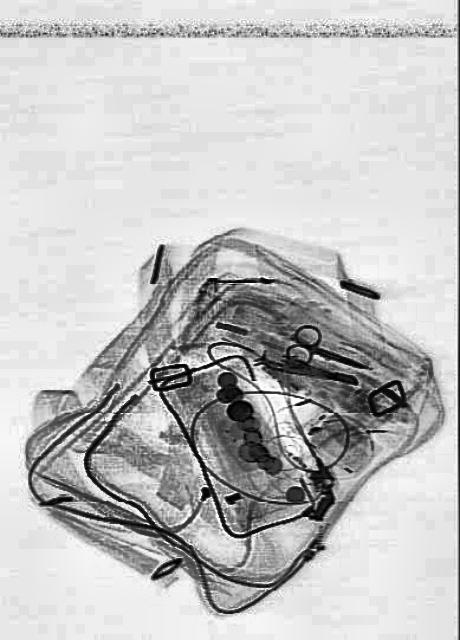Scissors: (284, 317, 370, 388)
